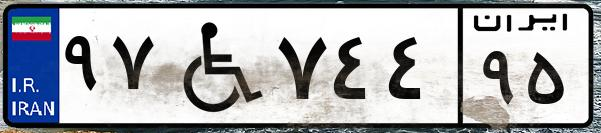4: (385, 28, 445, 110), (330, 28, 385, 110)
5: (525, 38, 570, 115)
7: (270, 28, 330, 110), (110, 28, 158, 98)
9: (57, 26, 110, 100), (475, 38, 525, 113)
ژ (معلولین و جانبازان): (158, 12, 270, 120)
